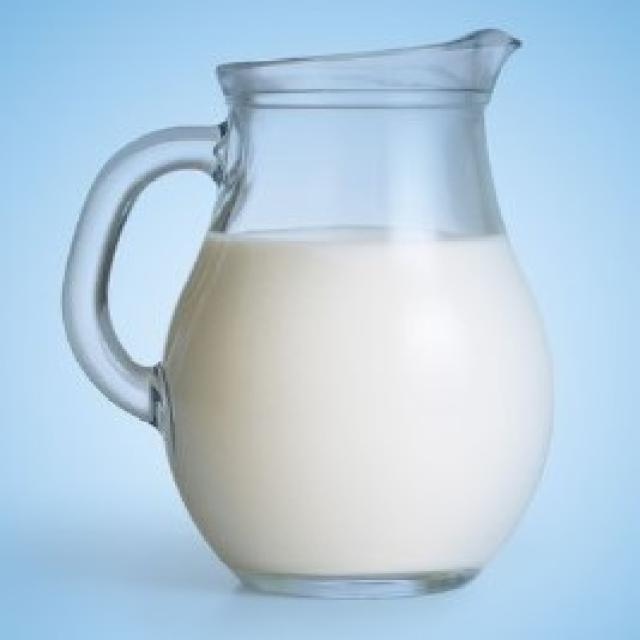electronic: (63, 22, 559, 606)
